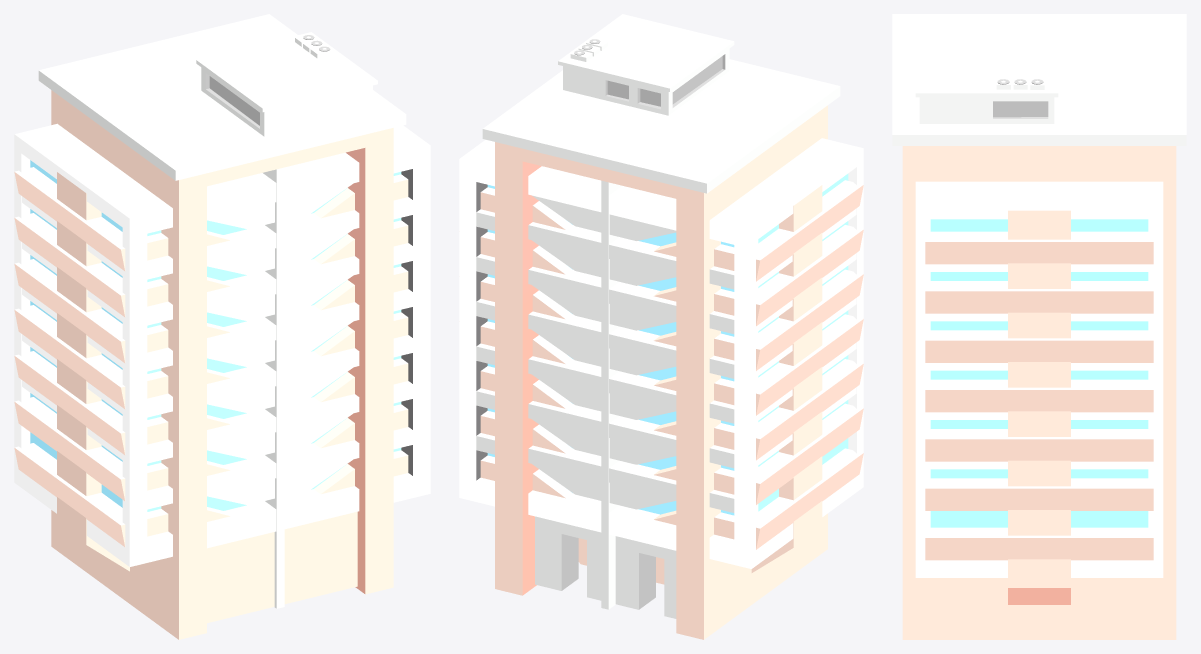
File: tile_for_home_2x2.002 (1).glb
The picture shows the model from 3 angles, left to right: view 1: azimuth 30°, elevation 25°; view 2: azimuth 150°, elevation 25°; view 3: azimuth 270°, elevation 25°; orthographic projection. The views are drawn at different scales.
Parts seen in each view (by area): view 1: apartment 1.008; view 2: apartment 1.008; view 3: apartment 1.008.
Boxes of the visible parts, bbox=[...] form: apartment 1.008: bbox=[14, 14, 430, 639]; apartment 1.008: bbox=[459, 14, 863, 639]; apartment 1.008: bbox=[892, 14, 1186, 639].
Bounding box in the file's own units: 15.41 × 24.27 × 11.81.
1 material, 1 textured.
